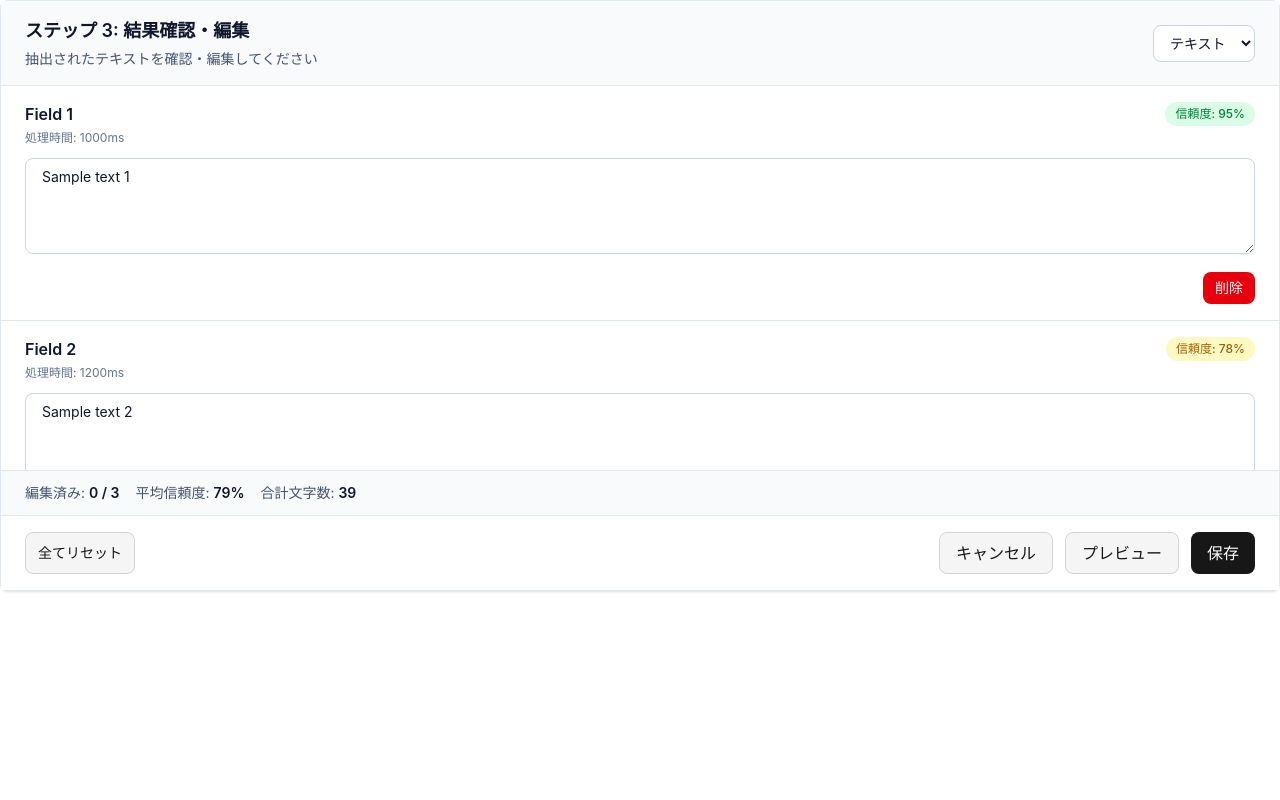
it: ResultEditor Component › TC-004: 削除機能 › TC-004-001: should delete individual result
Expected: the heading "Field 1" is shown, [25,104,73,124]
Expected: the heading "Field 2" is shown, [25,339,76,359]
Field 1 の削除ボタンをクリック
Click the button "削除". click: (1229, 288)
box: [1203,272,1255,304]
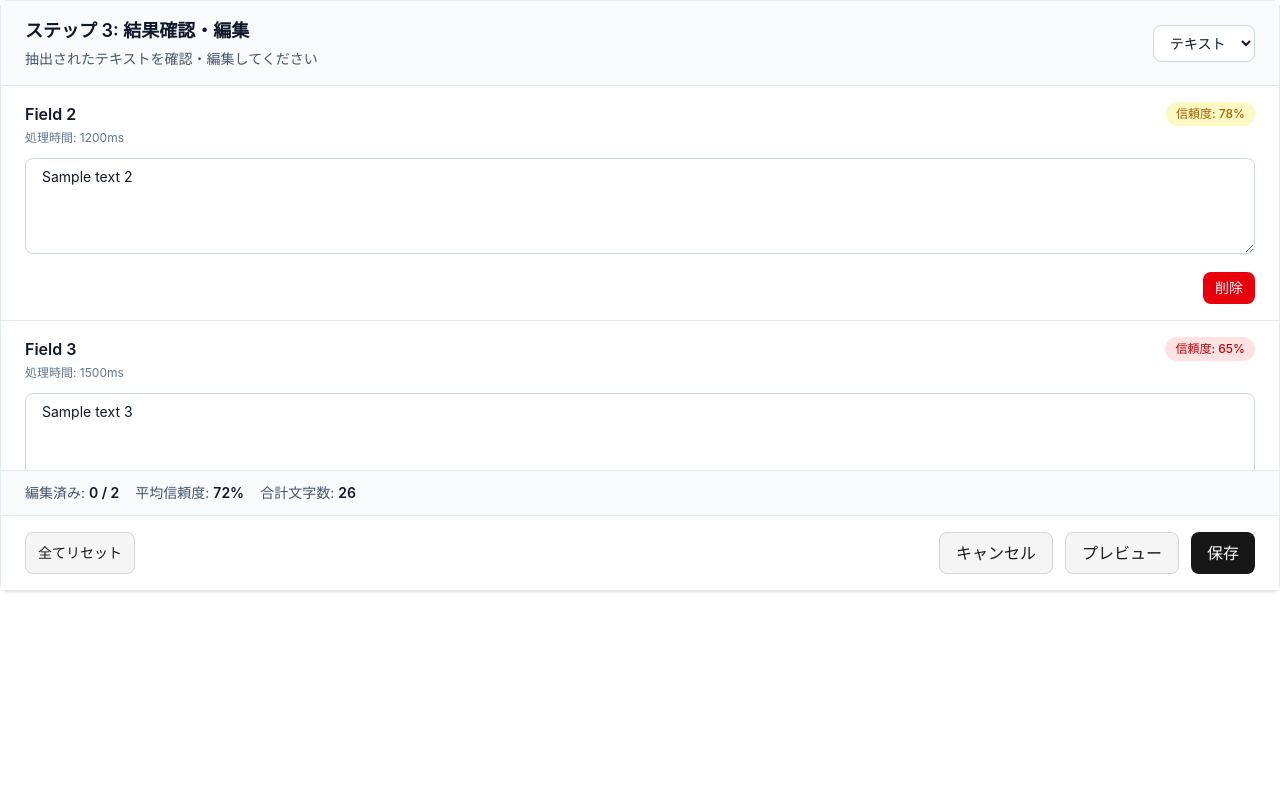
Expected: the heading "Field 2" is shown, [25,104,76,124]
Now the heading "Field 1" is gone
Now the heading "Field 3" is shown, box [25,339,76,359]
